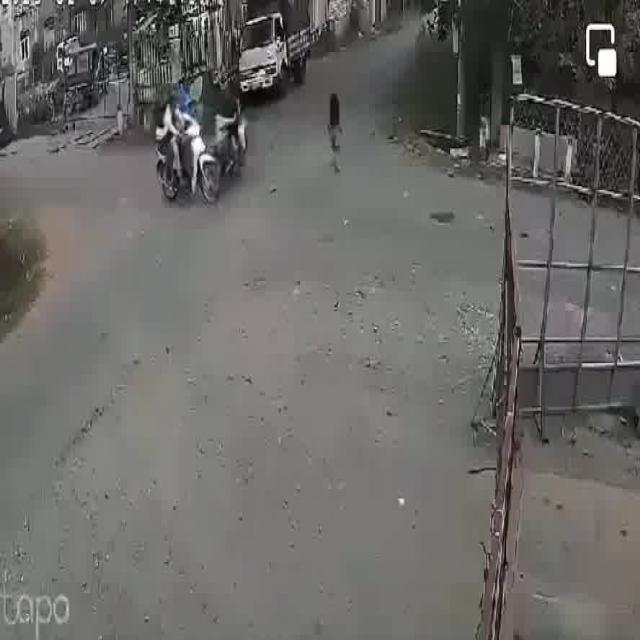multiple_accident: (144, 80, 255, 222)
